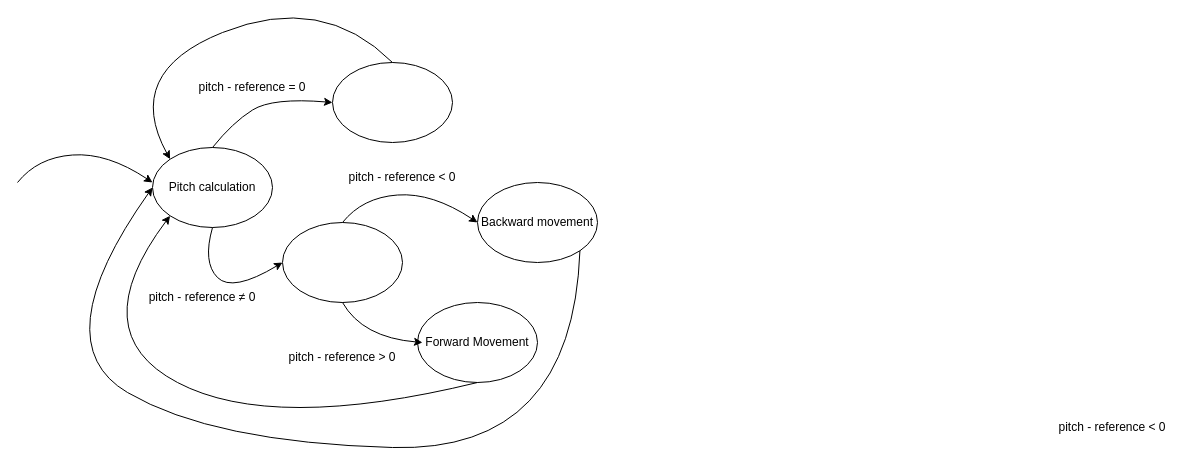
This 1200x465 diagram has some shape labels left out. The centre of each missing label's shape, as x and y in pixels:
"No movement" belongs at (392,102).
"PID calculation" belongs at (342,262).
